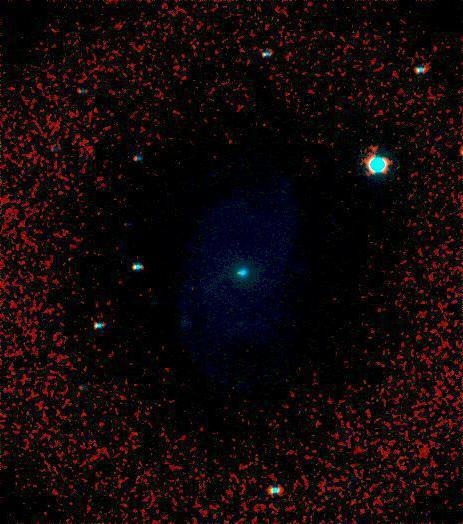star: (362, 131, 392, 161)
